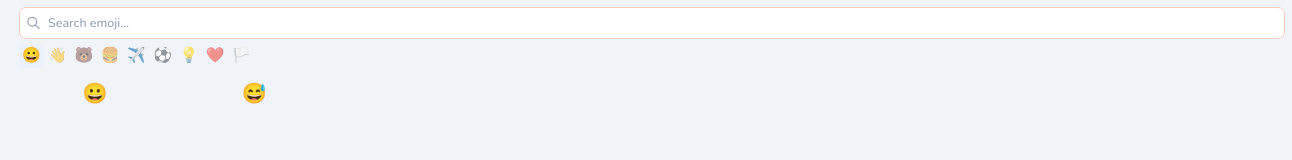
Scenario: EmojiPicker › searches across every category, not just the open one
The image size is (1292, 160).
Type "bear" into the field with placeholder "Search emoji…" at (652, 23), box [19,7,1285,38]
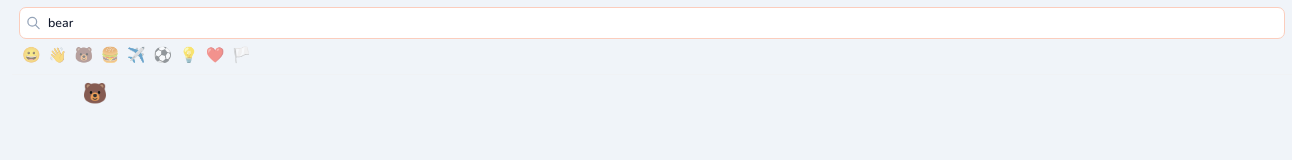
Now the button named "bear" is shown, box [16,78,175,110]
